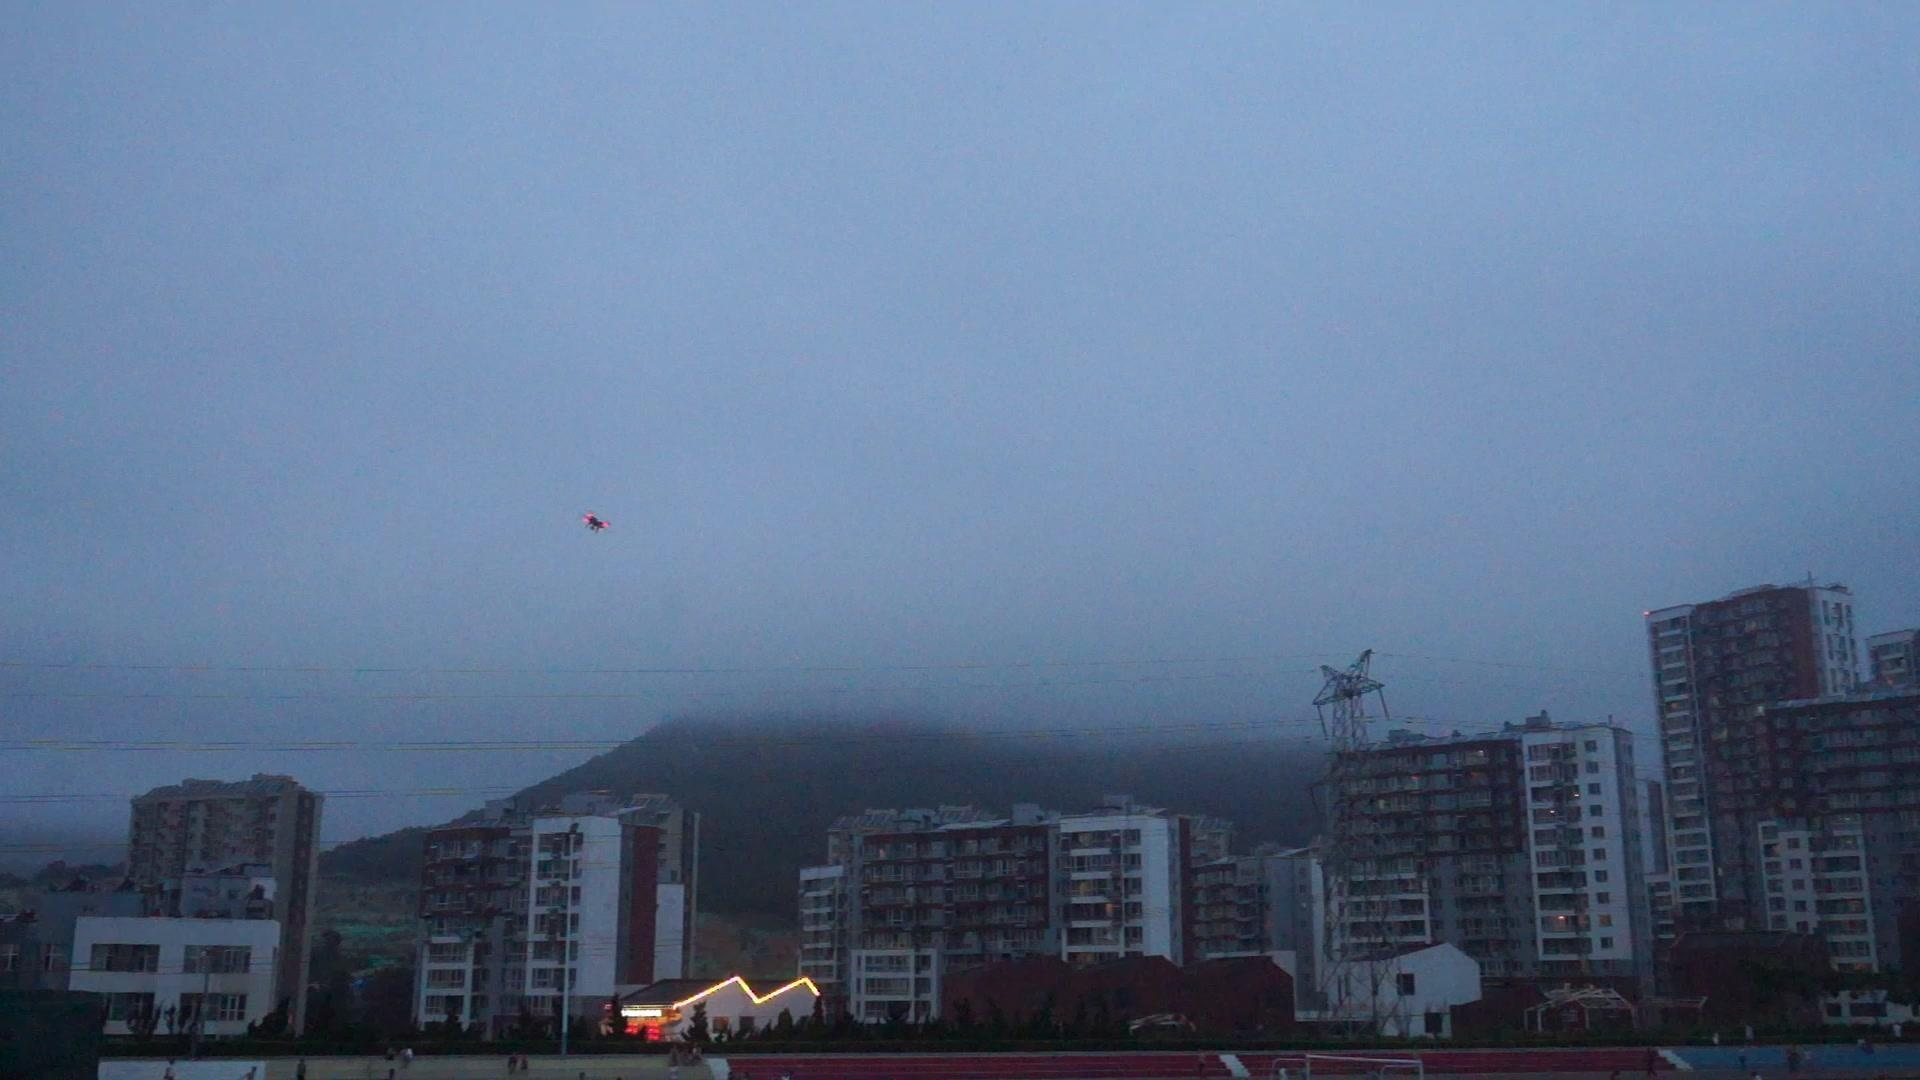UAV: (583, 513, 612, 535)
